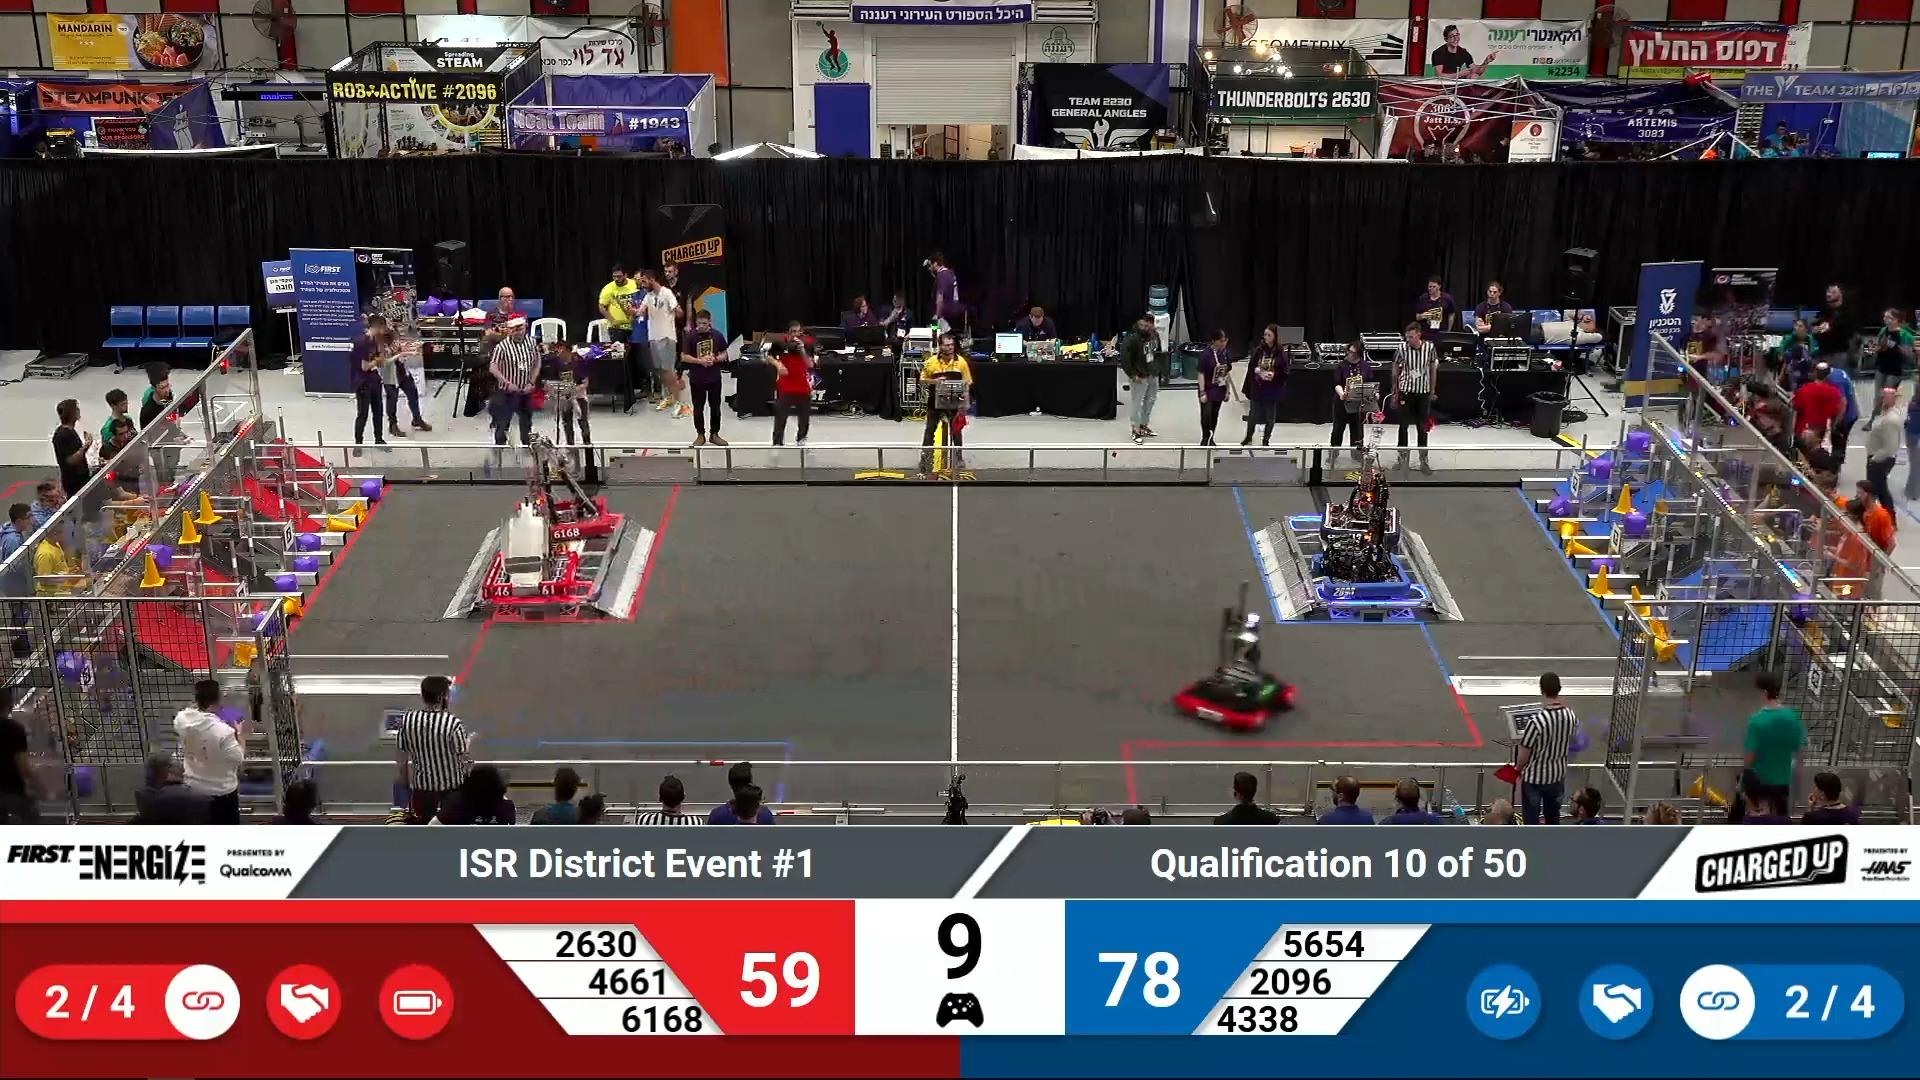robot: (1175, 621, 1308, 738), (223, 705, 328, 803), (521, 460, 618, 542), (480, 533, 584, 601), (1308, 534, 1411, 601), (1319, 468, 1404, 546)
